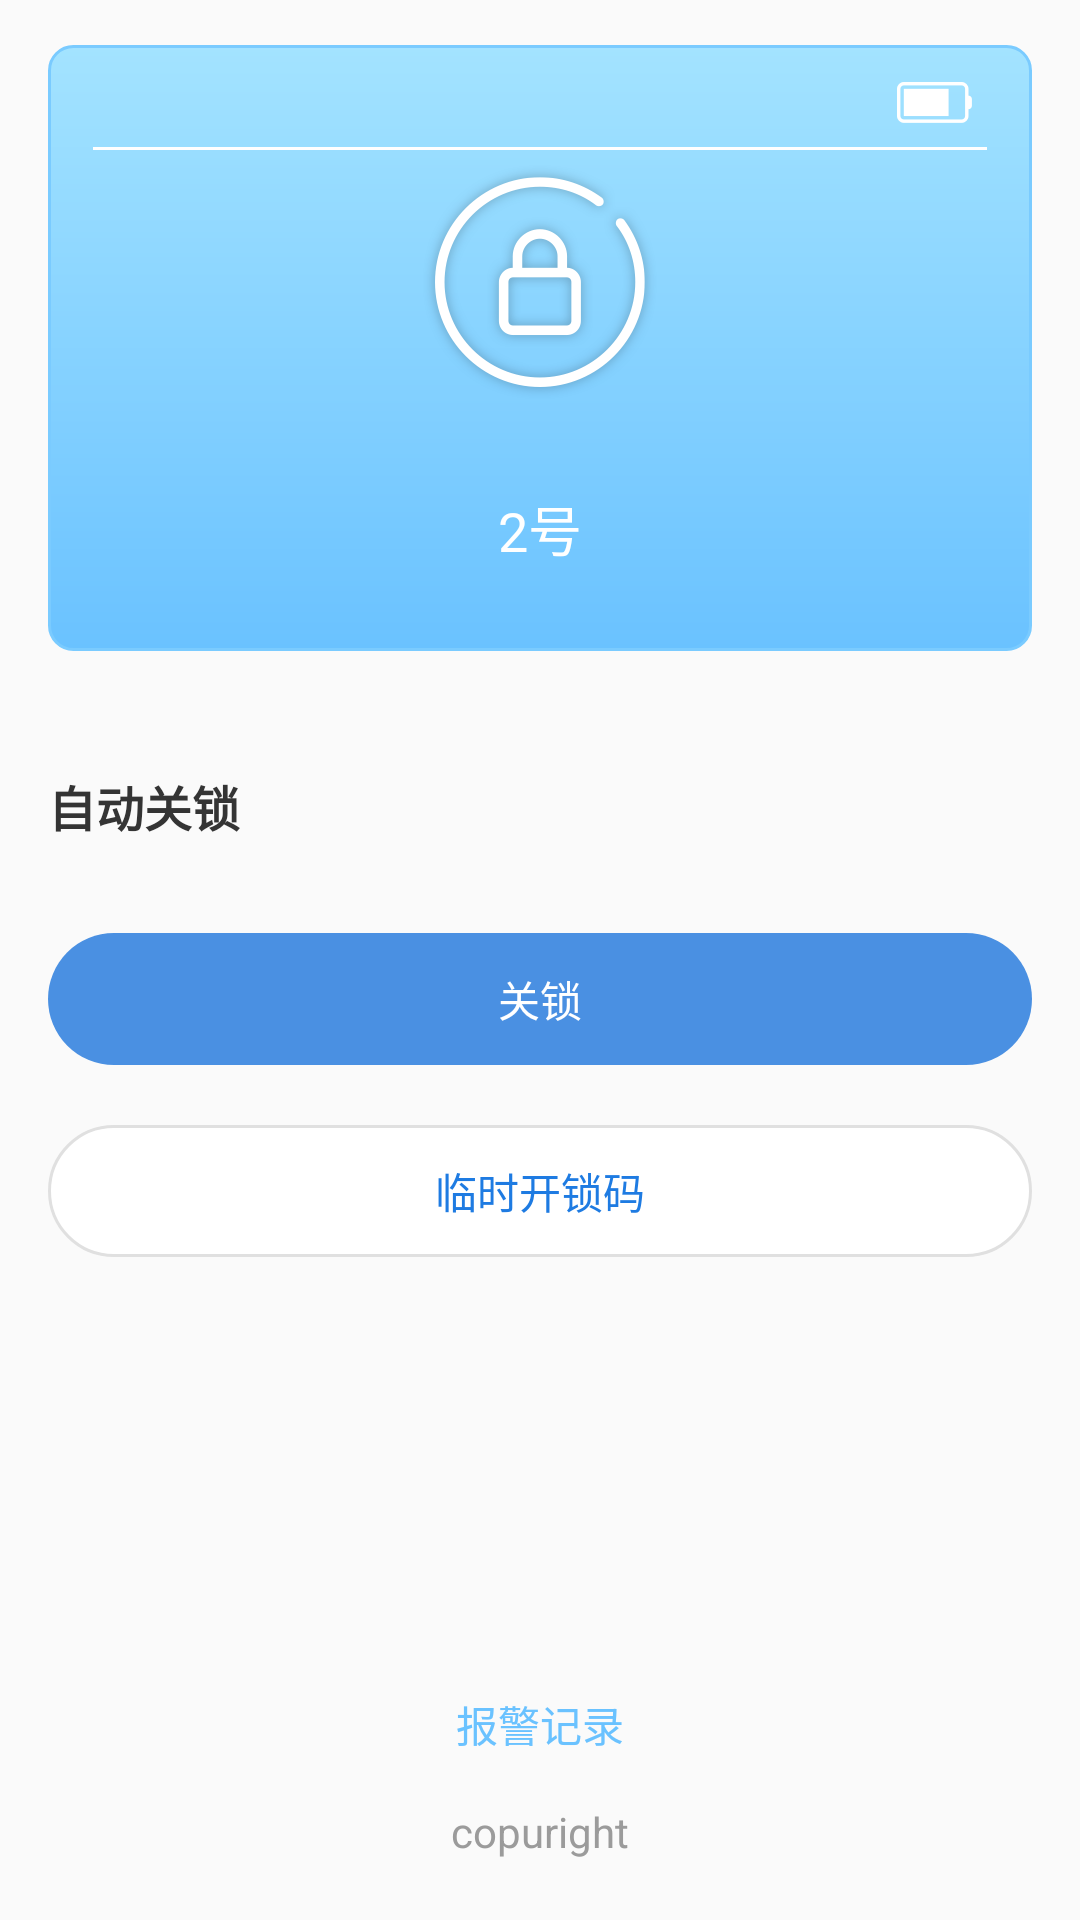

Icons on this 1080*1920 Android screen, each with its box as box(x1, y1, x2, y2):
electric: box(897, 82, 972, 123)
locking: box(423, 165, 657, 393)
